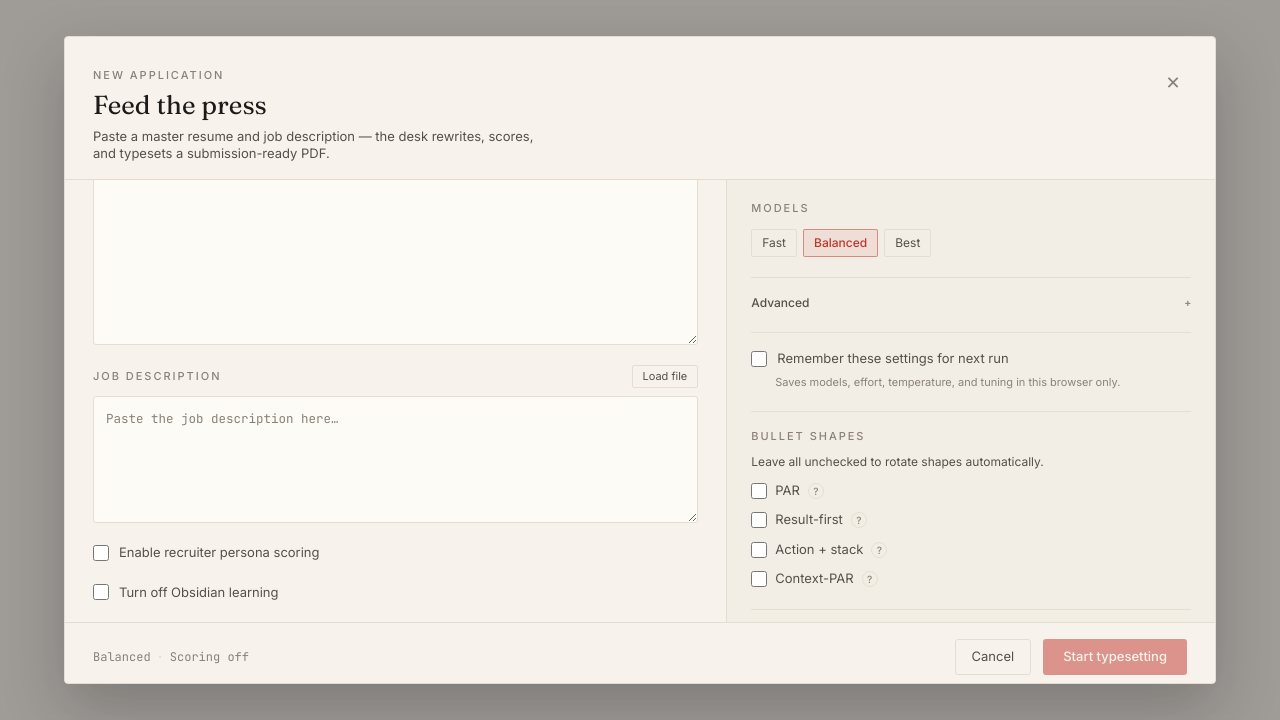
it: NewJobModal › reveals rubric weights when scoring is enabled and advanced is open
(page scrolled)
Expected: the element named "model presets" is shown, [751,229,931,257]
Click the checkbox labelled "Enable recruiter persona scoring" at (101, 553), box [93,545,109,561]
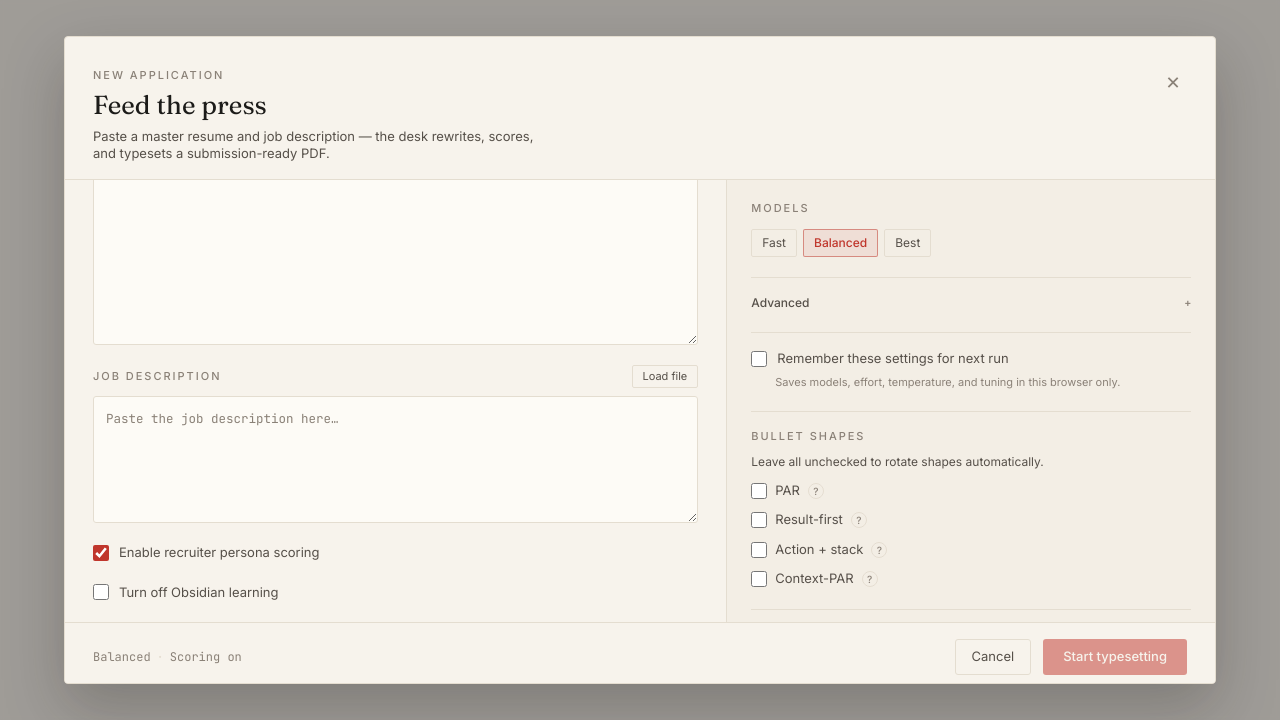
Click the button "Advanced +" at (780, 302), box [751,294,1191,312]
(page scrolled)
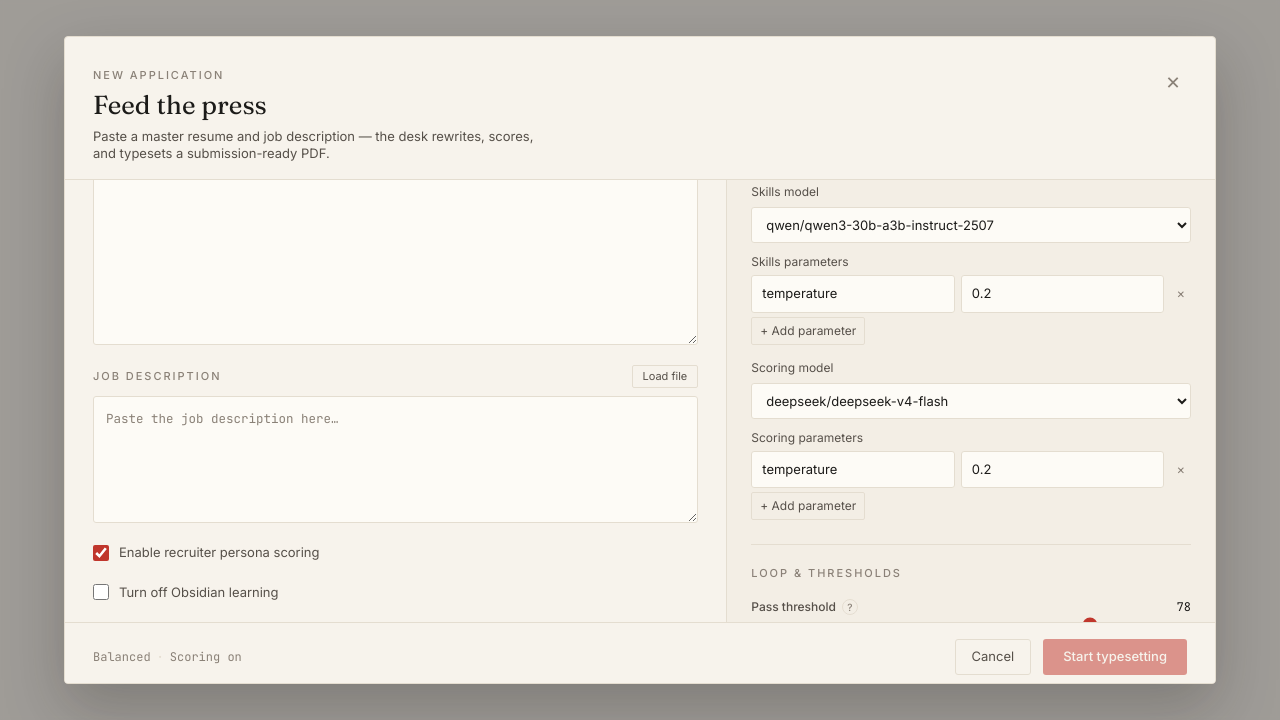
Result: the dropdown labelled "Skills model" is shown at [751,207,1191,243]
Result: the dropdown labelled "Scoring model" is shown at [751,383,1191,419]
